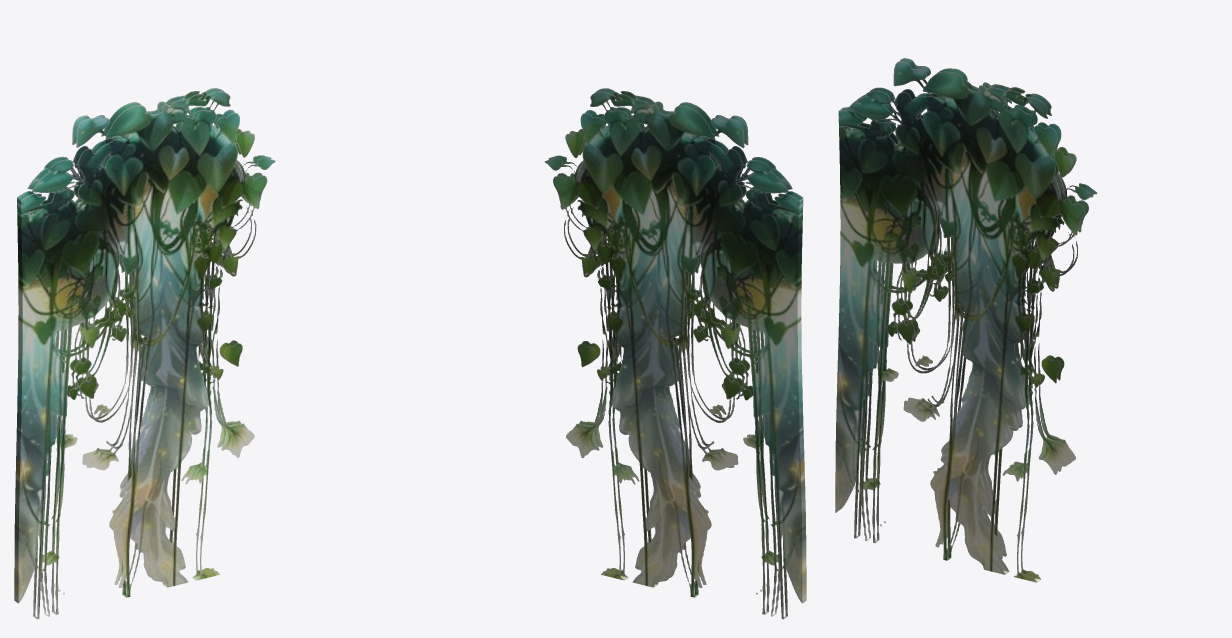
The model's file is greenglow.fbx.
3 views of the same model, side by side, from view 1: azimuth 30°, elevation 25°; view 2: azimuth 150°, elevation 25°; view 3: azimuth 330°, elevation 25° (orthographic).
Visible parts, largest first — view 1: pPlane24; view 2: pPlane24; view 3: pPlane24.
Boxes of the visible parts, x1,y1,x2,y2 form: pPlane24: (14, 88, 275, 619); pPlane24: (544, 88, 806, 619); pPlane24: (835, 58, 1096, 582).
Size of the model in its own units: 743 by 971 by 15.82.
